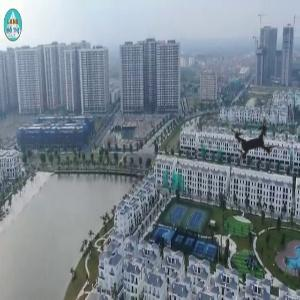drone: (211, 99, 296, 184)
